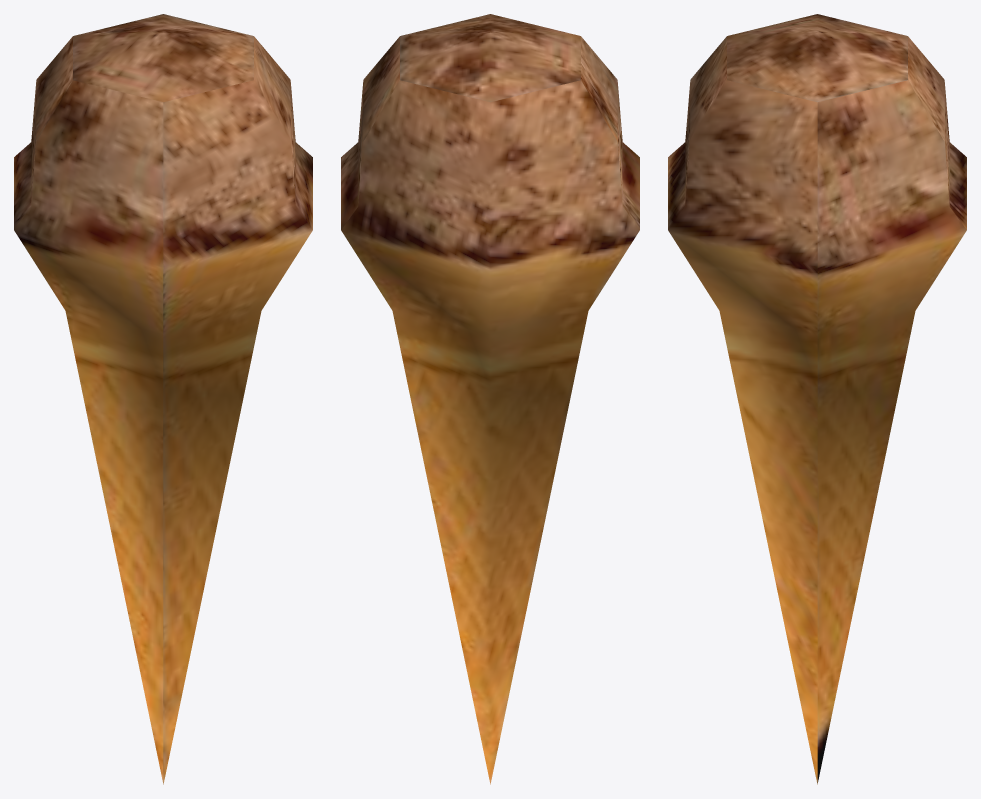
Rendered from Frozen_03.glb.
3 renders of one model, left to right at view 1: azimuth 30°, elevation 25°; view 2: azimuth 150°, elevation 25°; view 3: azimuth 270°, elevation 25°, orthographic.
Visible parts, largest first — view 1: Frozen_03; view 2: Frozen_03; view 3: Frozen_03.
Boxes of the visible parts, x1,y1,x2,y2 form: Frozen_03: (14, 14, 312, 784); Frozen_03: (341, 14, 639, 784); Frozen_03: (668, 14, 966, 784).
Size of the model in its own units: 0.082 by 0.1971 by 0.071.
1 material, 1 textured.
